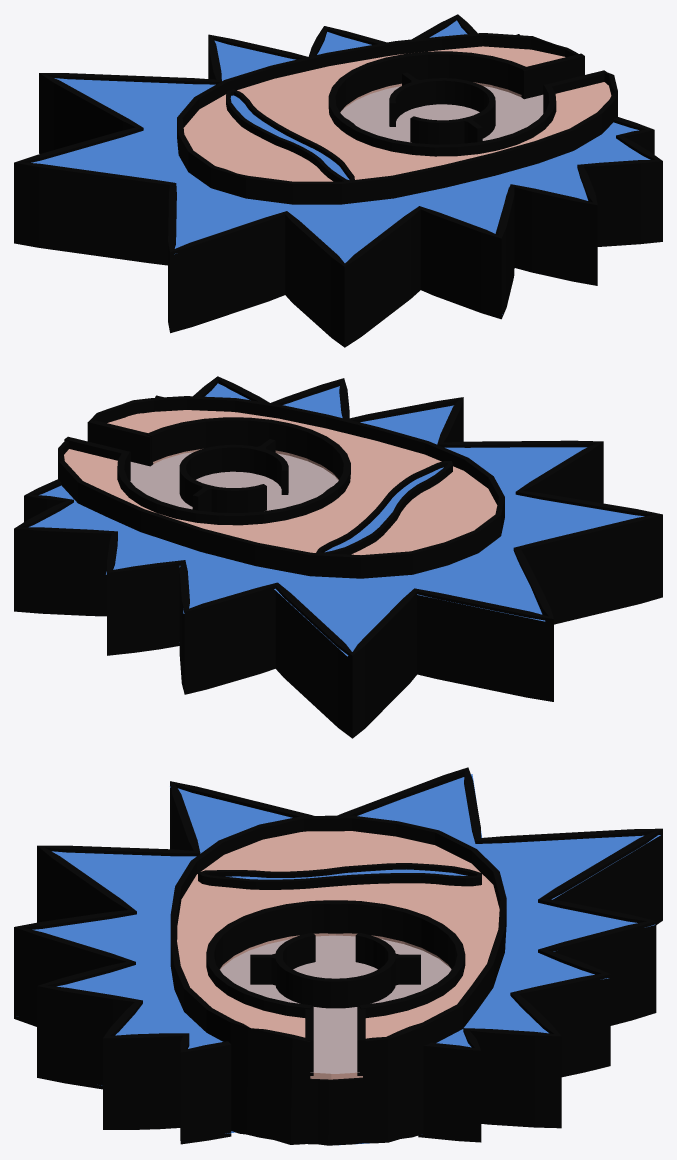
The model's file is Rick0.fbx.
3 renders of one model, top to bottom at view 1: azimuth 30°, elevation 25°; view 2: azimuth 150°, elevation 25°; view 3: azimuth 270°, elevation 25°, orthographic. The views are drawn at different scales.
Visible parts, largest first — view 1: Cube.001, Плоскость.003, Куб.003, Куб, Окружность.001, Окружность, Окружность.002, Куб.001, Куб.004, Плоскость.002, Куб.002; view 2: Cube.001, Плоскость.003, Куб.003, Куб, Окружность.001, Окружность, Окружность.002, Куб.001, Куб.002, Плоскость.002, Куб.004; view 3: Cube.001, Плоскость.003, Куб, Куб.003, Окружность.001, Окружность.002, Окружность, Куб.001, Плоскость.002, Куб.004.
Part boxes in pixels (x1,y1,x2,y2): Cube.001: (14,14,662,347); Плоскость.003: (31,20,650,262); Куб.003: (183,46,611,181); Куб: (177,33,617,263); Окружность.001: (328,51,556,156); Окружность: (389,72,495,144); Окружность.002: (340,86,543,142); Куб.001: (226,89,354,181); Куб.004: (521,53,584,99); Плоскость.002: (230,95,349,179); Куб.002: (543,70,607,113); Cube.001: (14,376,662,738); Плоскость.003: (29,383,644,656); Куб.003: (64,410,497,554); Куб: (58,396,504,578); Окружность.001: (117,417,350,525); Окружность: (179,439,288,512); Окружность.002: (130,452,338,510); Куб.001: (316,461,452,554); Куб.002: (87,419,153,466); Плоскость.002: (325,467,443,552); Куб.004: (64,436,130,480); Cube.001: (14,767,662,1144); Плоскость.003: (32,774,660,1048); Куб: (170,815,506,1145); Куб.003: (177,831,499,1079); Окружность.001: (206,900,465,1017); Окружность.002: (220,935,451,1073); Окружность: (250,932,420,1008); Куб.001: (198,863,481,889); Плоскость.002: (226,869,467,879); Куб.004: (357,1006,365,1075).
Bounding box in the file's own units: 562 × 102 × 529.
